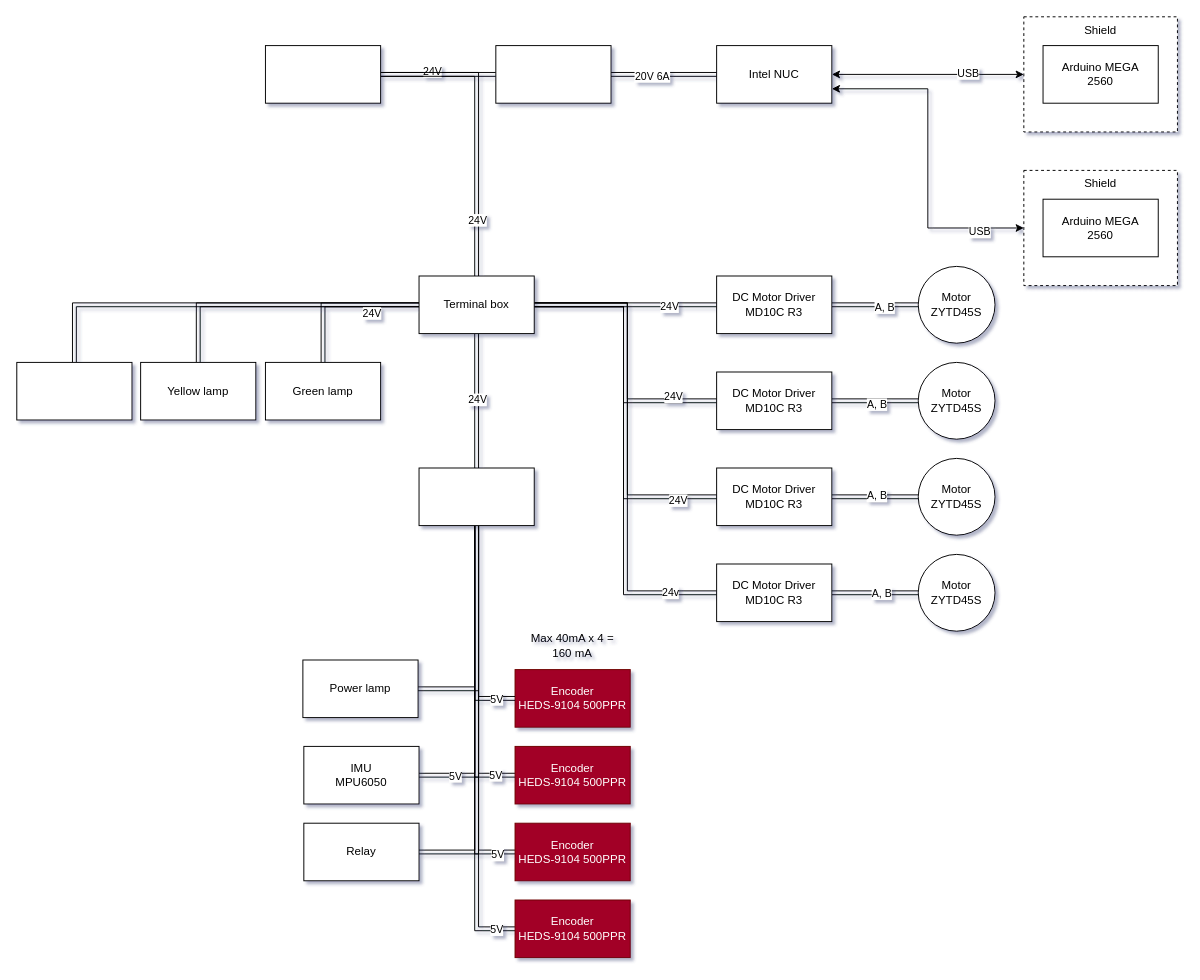
This 1200x980 diagram has some shape labels left out. Each missing label, with the centre of its shape:
"DC-DC Stepdown 10A" belongs at point (553, 74).
"LiFePO4 Battery 24V" belongs at point (322, 74).
"Red lamp" belongs at point (74, 390).
"XL4005 SMPS Adjustable 5A Buck Converter" belongs at point (476, 496).
